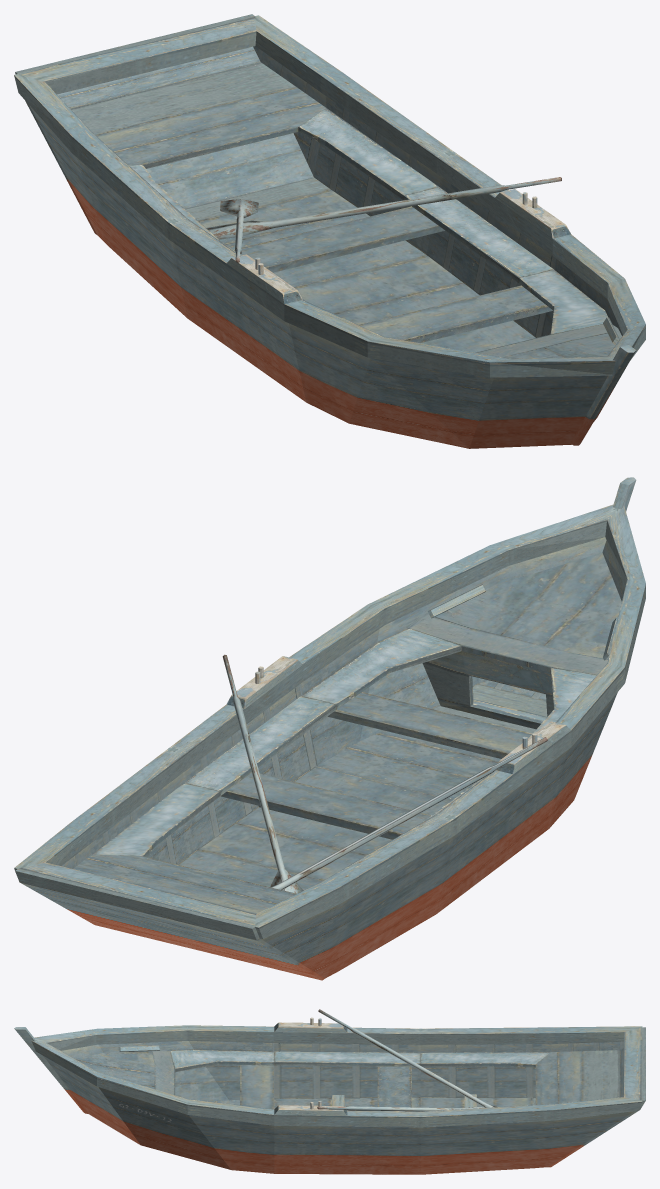
Rendered from OldBoat.obj.
3 renders of one model, top to bottom at view 1: azimuth 30°, elevation 25°; view 2: azimuth 150°, elevation 25°; view 3: azimuth 270°, elevation 25°, orthographic. The views are drawn at different scales.
Parts seen in each view (by area): view 1: boat, oarL_Cylinder, oarR_Cylinder.002; view 2: boat, oarR_Cylinder.002, oarL_Cylinder; view 3: boat, oarR_Cylinder.002, oarL_Cylinder.
Boxes of the visible parts, x1,y1,x2,y2 form: boat: (14, 14, 645, 448); oarL_Cylinder: (206, 177, 561, 239); oarR_Cylinder.002: (220, 199, 258, 262); boat: (14, 477, 645, 980); oarR_Cylinder.002: (270, 737, 547, 889); oarL_Cylinder: (222, 654, 303, 893); boat: (14, 1017, 645, 1174); oarR_Cylinder.002: (318, 1009, 497, 1107); oarL_Cylinder: (317, 1106, 484, 1111).
Bounding box in the file's own units: 14.74 × 7.4 × 39.18.
